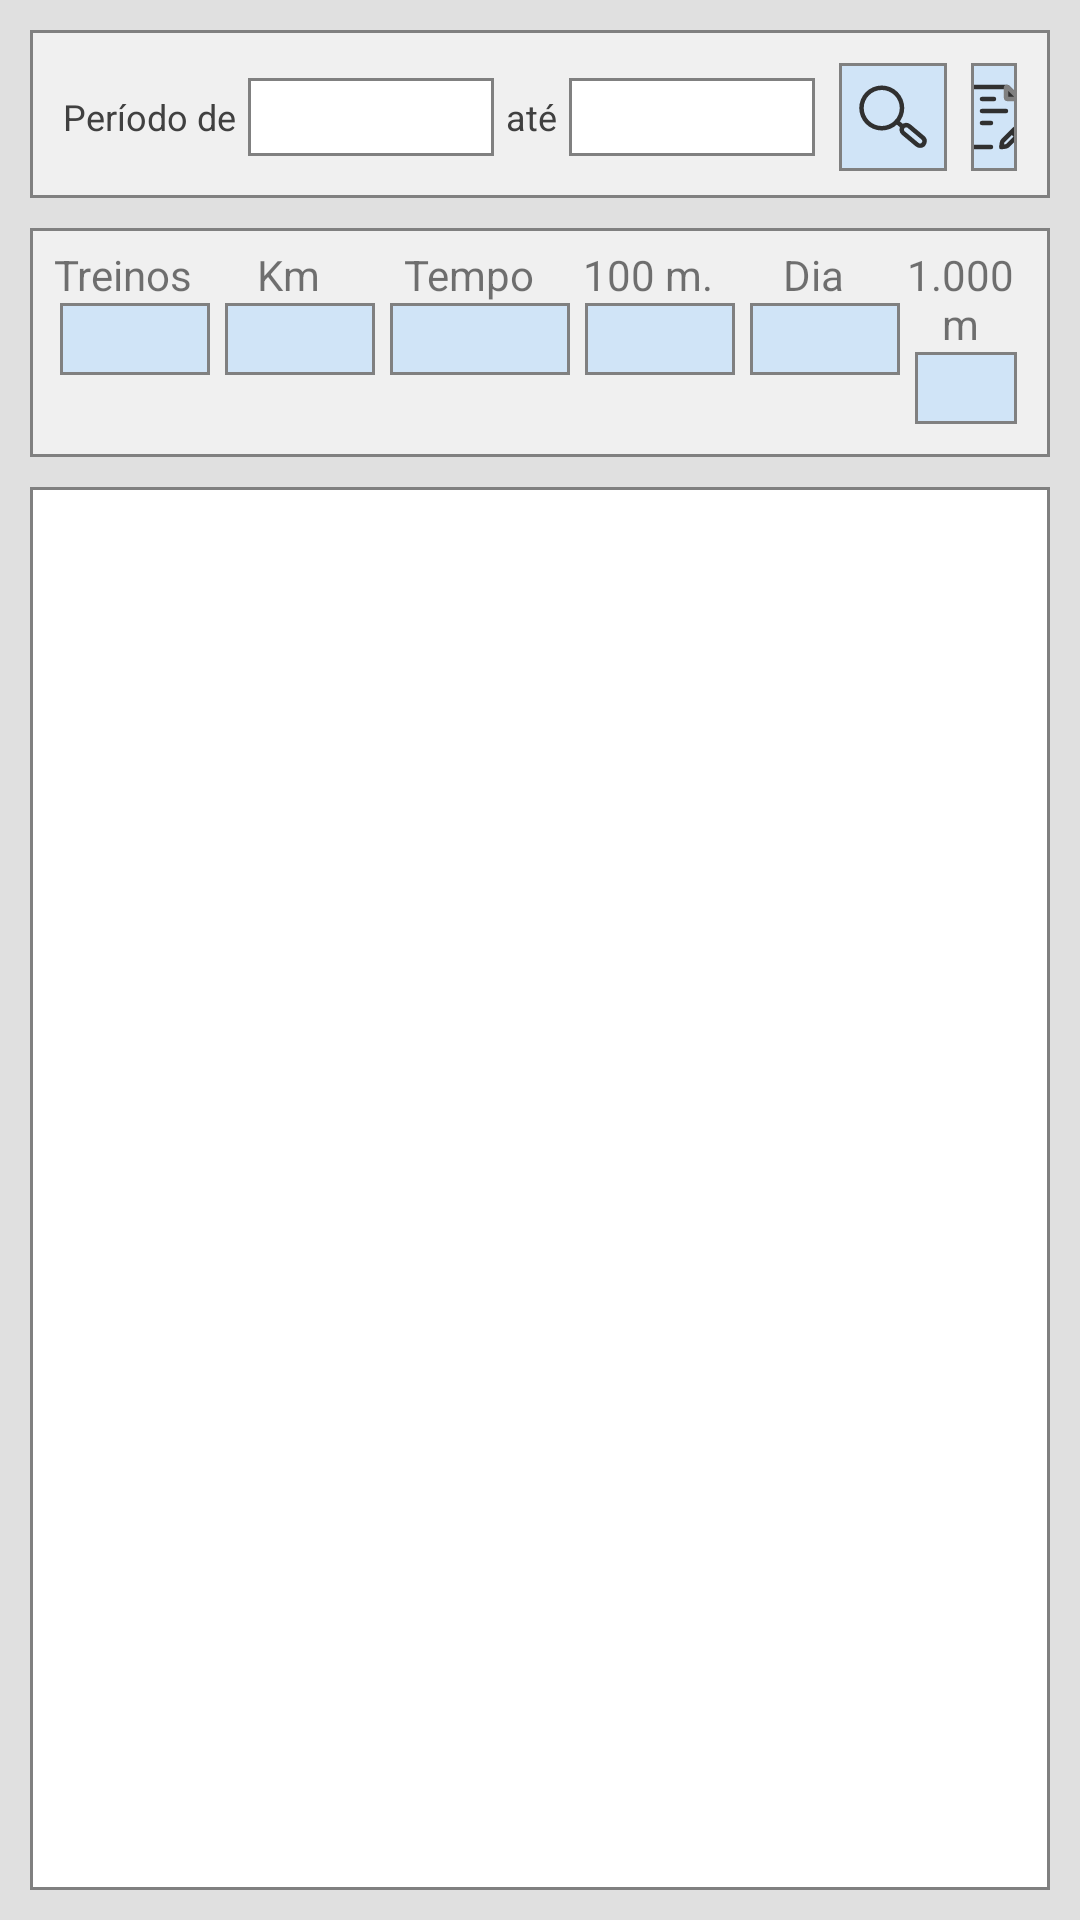

Where to tap for icons on this 1080px x 1920px app screen, as point (x, y):
lupa: point (893, 117)
